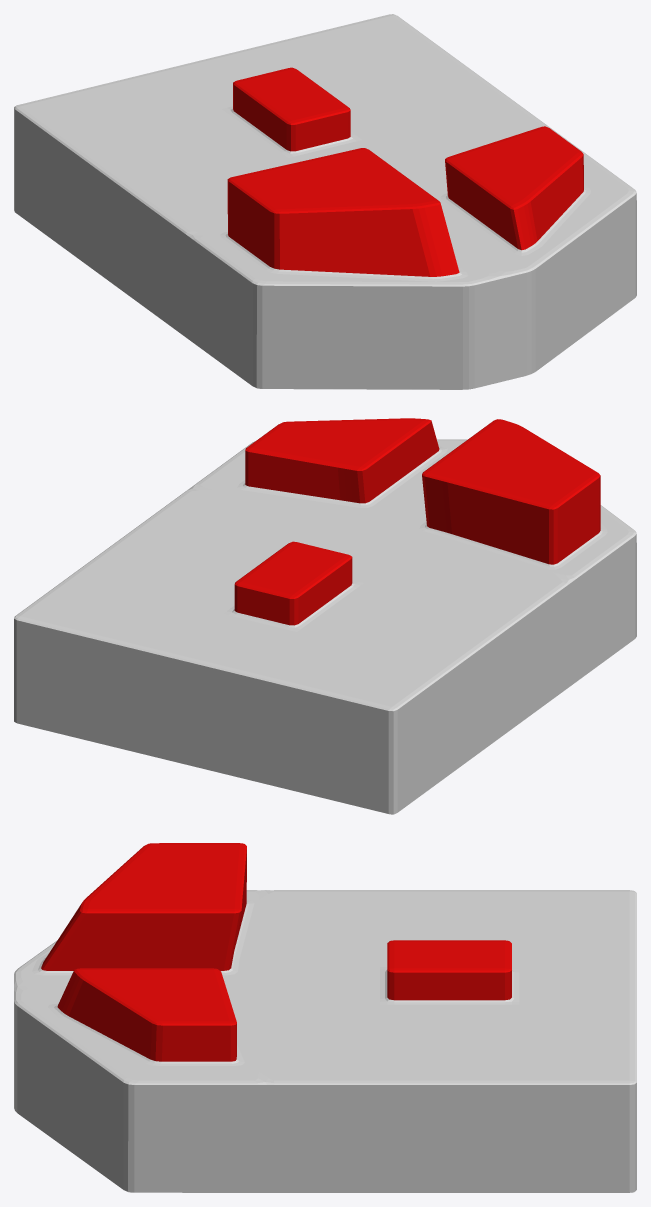
Rendered from mouse.fbx.
The picture shows the model from 3 angles, top to bottom: view 1: azimuth 30°, elevation 25°; view 2: azimuth 150°, elevation 25°; view 3: azimuth 270°, elevation 25°; orthographic projection. The views are drawn at different scales.
Parts seen in each view (by area): view 1: Cube; view 2: Cube; view 3: Cube.
Part boxes in pixels (x1=…): Cube: x1=14, y1=14, x2=636, y2=389; Cube: x1=14, y1=418, x2=636, y2=814; Cube: x1=14, y1=843, x2=636, y2=1192.
Bounding box in the file's own units: 43.02 × 17.65 × 58.18.
